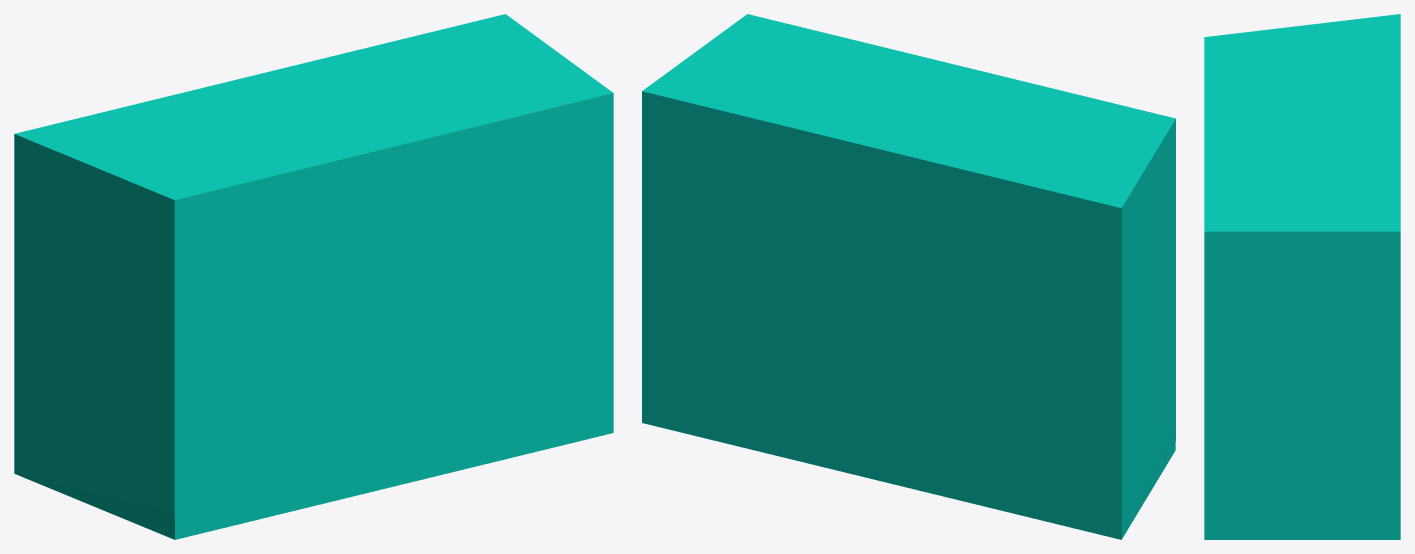
Rendered from simple_example_hole_part_12.obj.
3 renders of one model, left to right at view 1: azimuth 30°, elevation 25°; view 2: azimuth 150°, elevation 25°; view 3: azimuth 270°, elevation 25°, orthographic. The views are drawn at different scales.
Size of the model in its own units: 18.48 by 12.21 by 7.04.
